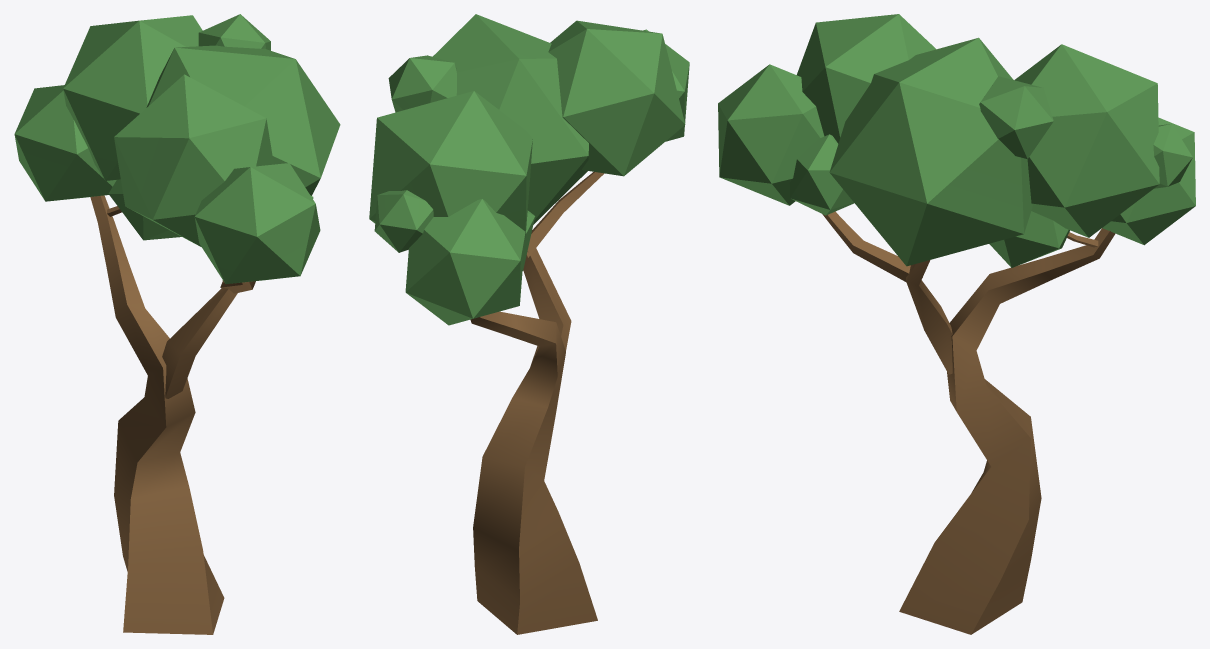
The model's file is Arbre_01.fbx.
The picture shows the model from 3 angles, left to right: view 1: azimuth 30°, elevation 25°; view 2: azimuth 150°, elevation 25°; view 3: azimuth 270°, elevation 25°; orthographic projection. The views are drawn at different scales.
Visible parts, largest first — view 1: Arbre_01; view 2: Arbre_01; view 3: Arbre_01.
Part boxes in pixels (bbox=[...]): Arbre_01: bbox=[14, 14, 340, 634]; Arbre_01: bbox=[369, 14, 689, 634]; Arbre_01: bbox=[718, 14, 1195, 634].
Bounding box in the file's own units: 232 × 527 × 392.
Materials: 1 (1 with a texture image).
